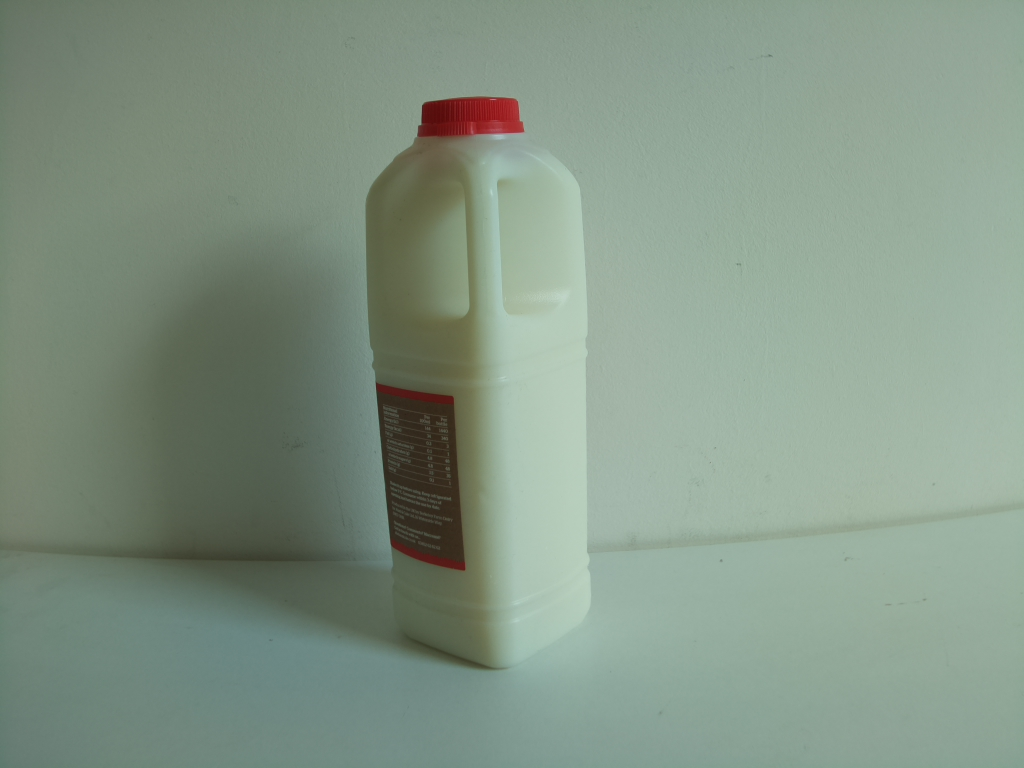milk: (361, 91, 598, 675)
